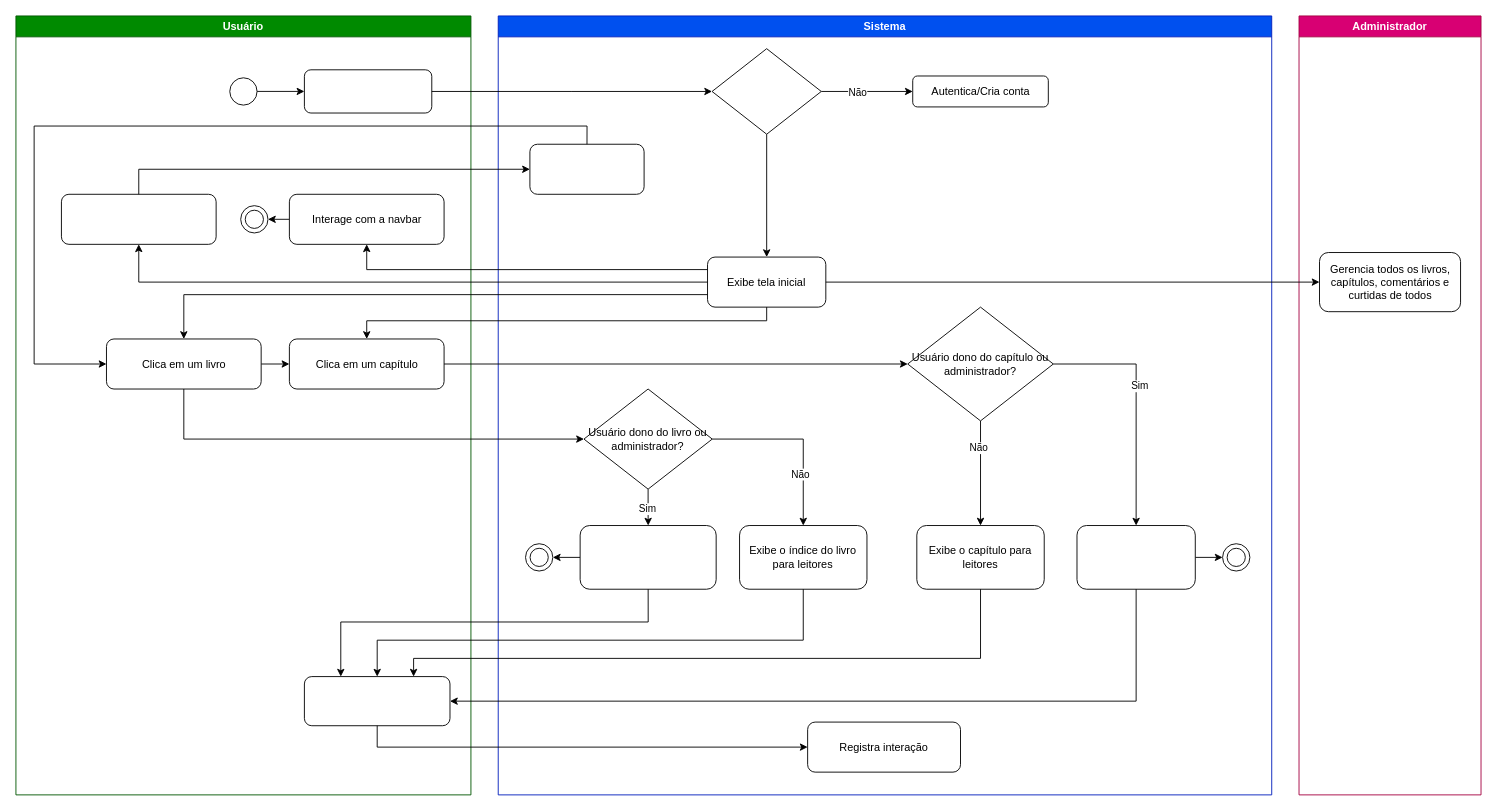
The diagram is 1497 pixels wide and 811 high, and some of its shapes have lost their labels. The shapes that lost their labels are listed below. From the top down, each one's centre as x and y in pixels, then its label:
At (x=367, y=91): "Loga via Landing Page".
At (x=766, y=91): "Usuário cadastrado?".
At (x=586, y=168): "Retorna os livros pesquisados".
At (x=138, y=218): "Pesquisa um livro na searchbar".
At (x=647, y=557): "Exibe o índice do livro com botões para CRUDs".
At (x=1135, y=557): "Exibe o capítulo com botões para CRUDs".
At (x=376, y=701): "Interage na nota ou nos comentários".
